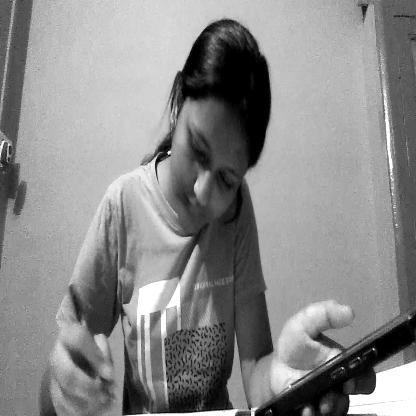Distracted: (163, 20, 277, 253)
